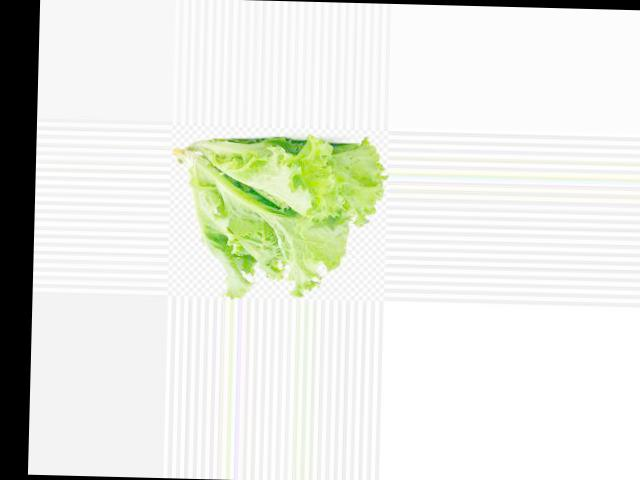lettuce: (220, 117, 362, 284)
